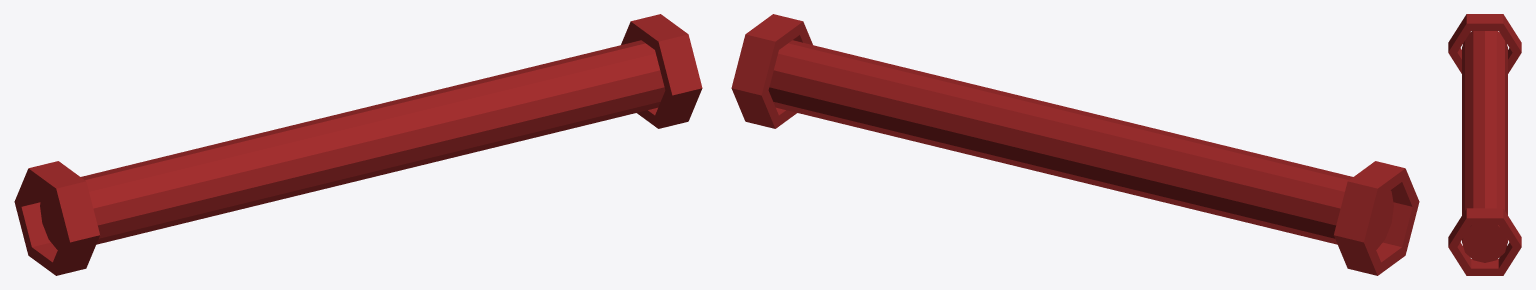
The model's file is wire_120.fbx.
3 views of the same model, side by side, from view 1: azimuth 30°, elevation 25°; view 2: azimuth 150°, elevation 25°; view 3: azimuth 270°, elevation 25° (orthographic). The views are drawn at different scales.
Parts seen in each view (by area): view 1: wire_120; view 2: wire_120; view 3: wire_120.
Part boxes in pixels (left/top/right/bottom): wire_120: left=14, top=14, right=702, bottom=275; wire_120: left=731, top=14, right=1419, bottom=275; wire_120: left=1448, top=14, right=1521, bottom=275.
Size of the model in its own units: 105 by 13.86 by 16.
